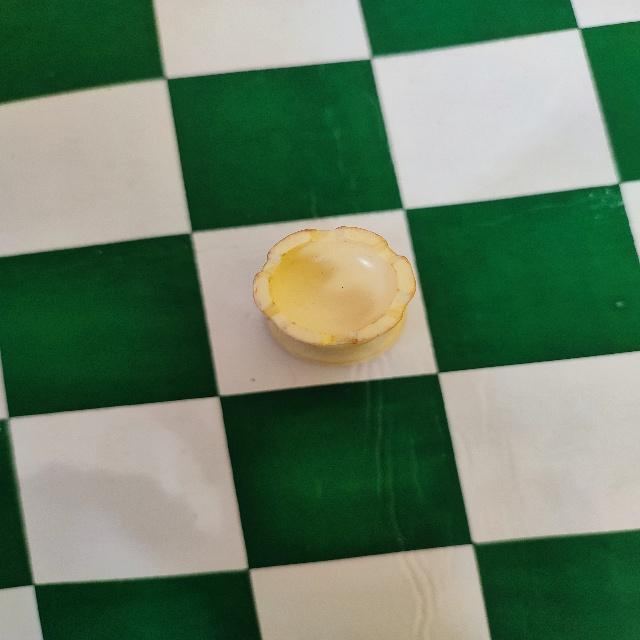Rook: (250, 222, 419, 370)
